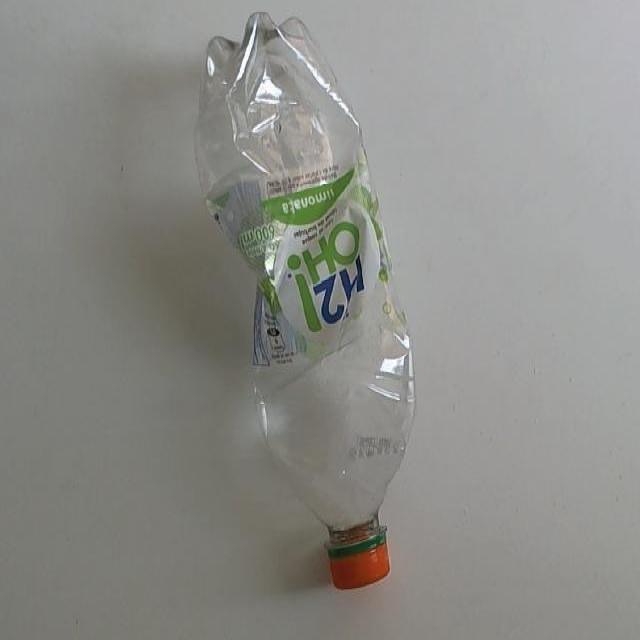defect: (197, 8, 420, 595)
